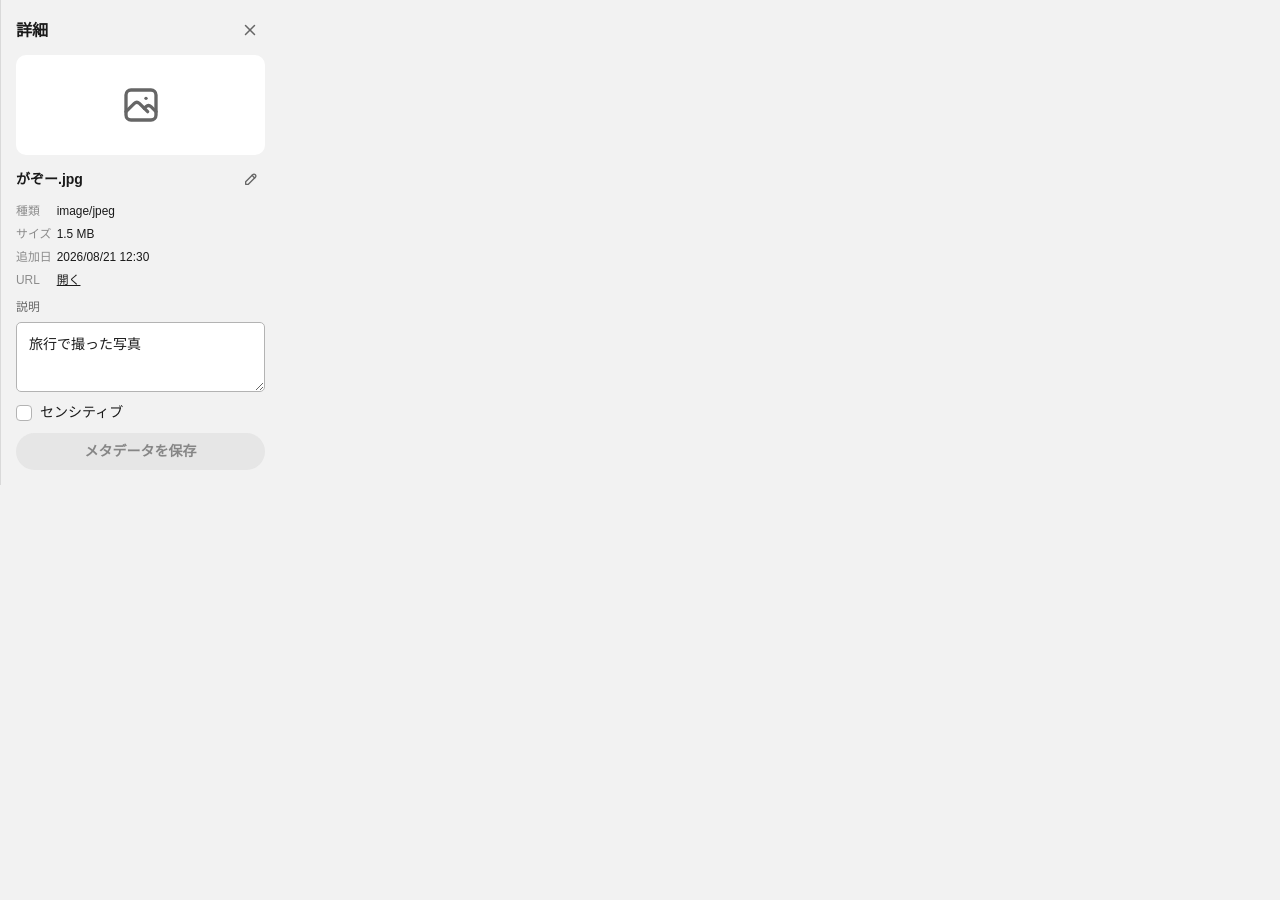
Scenario: メタデータの編集 › 編集すると保存ボタンが活性になる
Step 1. Replace the text in the text box labelled "説明" with "別の説明" → (140, 357), box [16, 322, 265, 392]
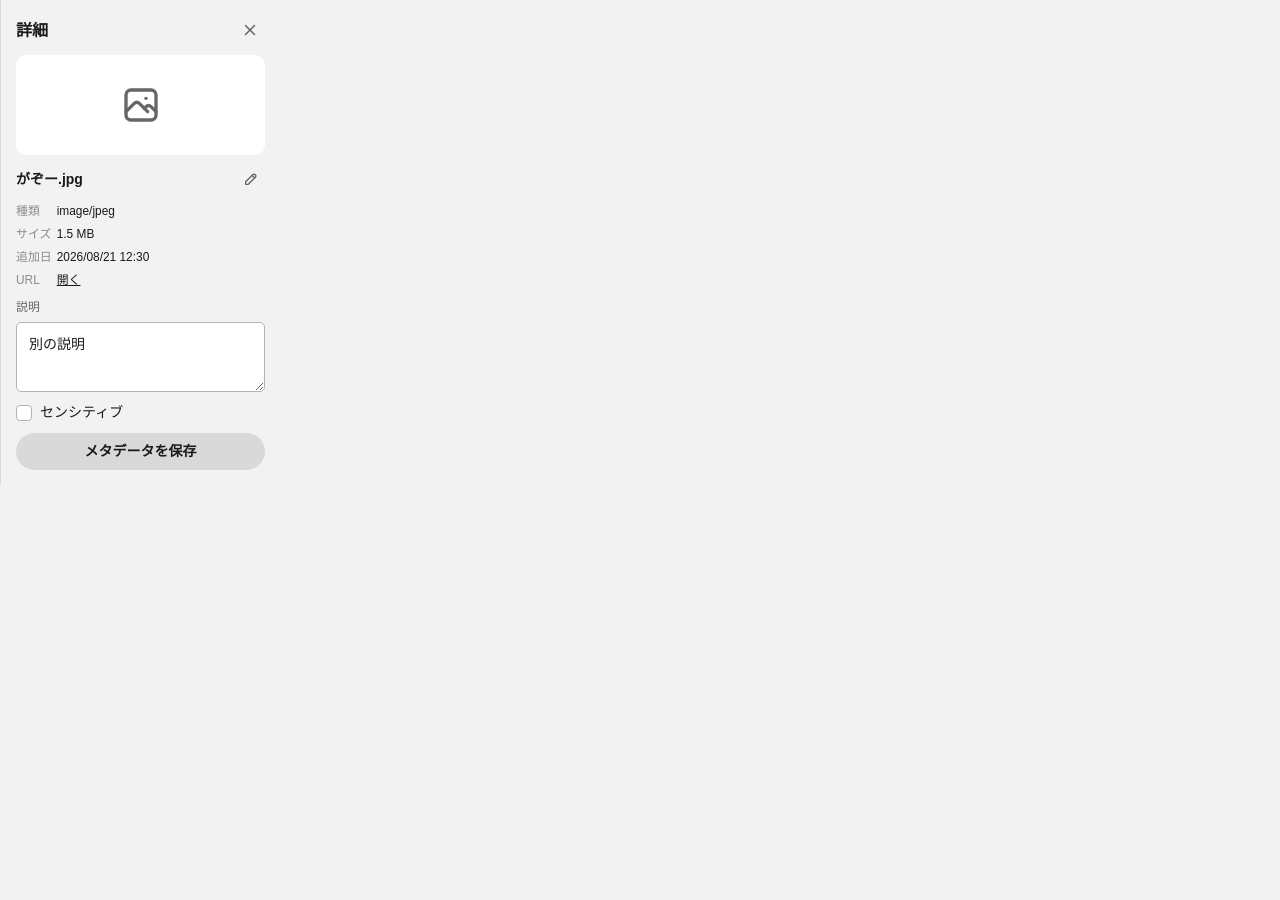
Result: the button "メタデータを保存" is enabled at [16, 433, 265, 470]
